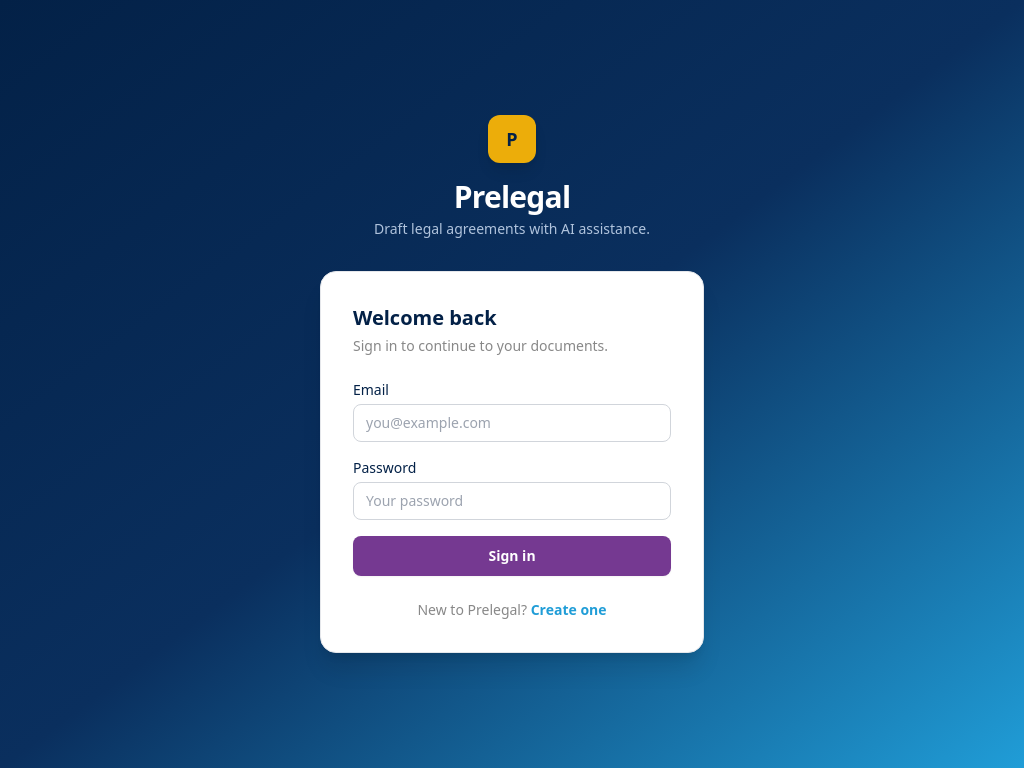
AuthScreen › switches to the sign-up form
Click the button "Create one" at coordinates (569, 610), box top-left (531, 600), bottom-right (607, 620)
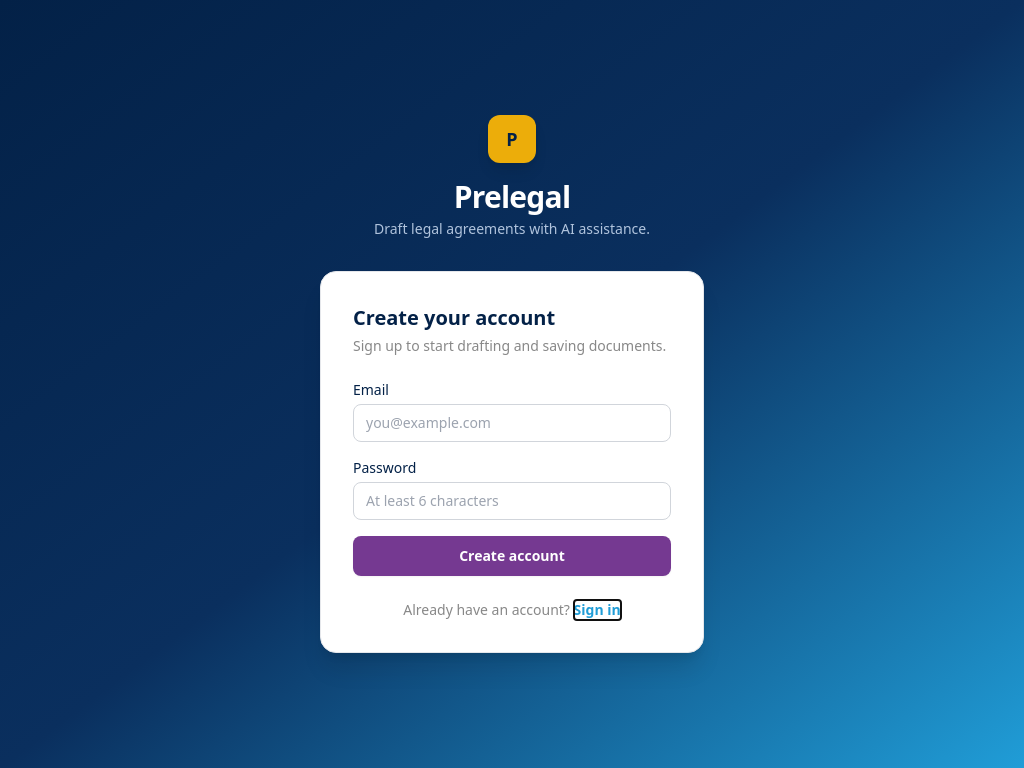
Expected: the heading "Create your account" is shown, top-left (353, 304), bottom-right (555, 331)
Expected: the button "Create account" is shown, top-left (353, 536), bottom-right (671, 576)
